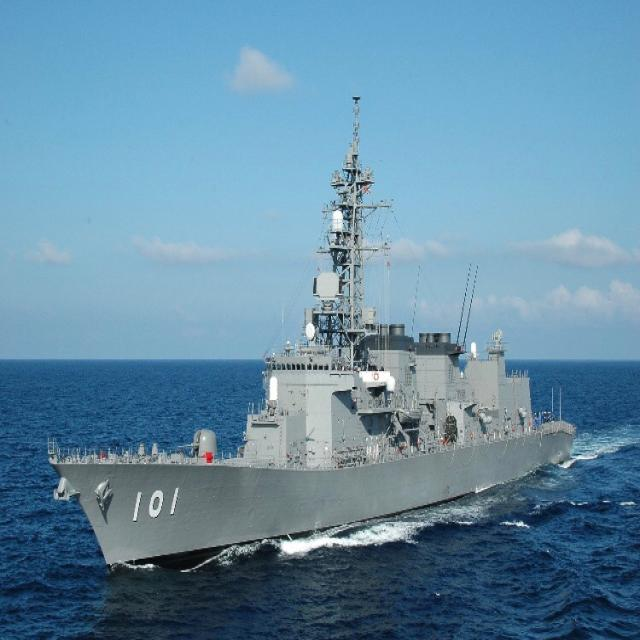navalvessels: (45, 117, 581, 574)
